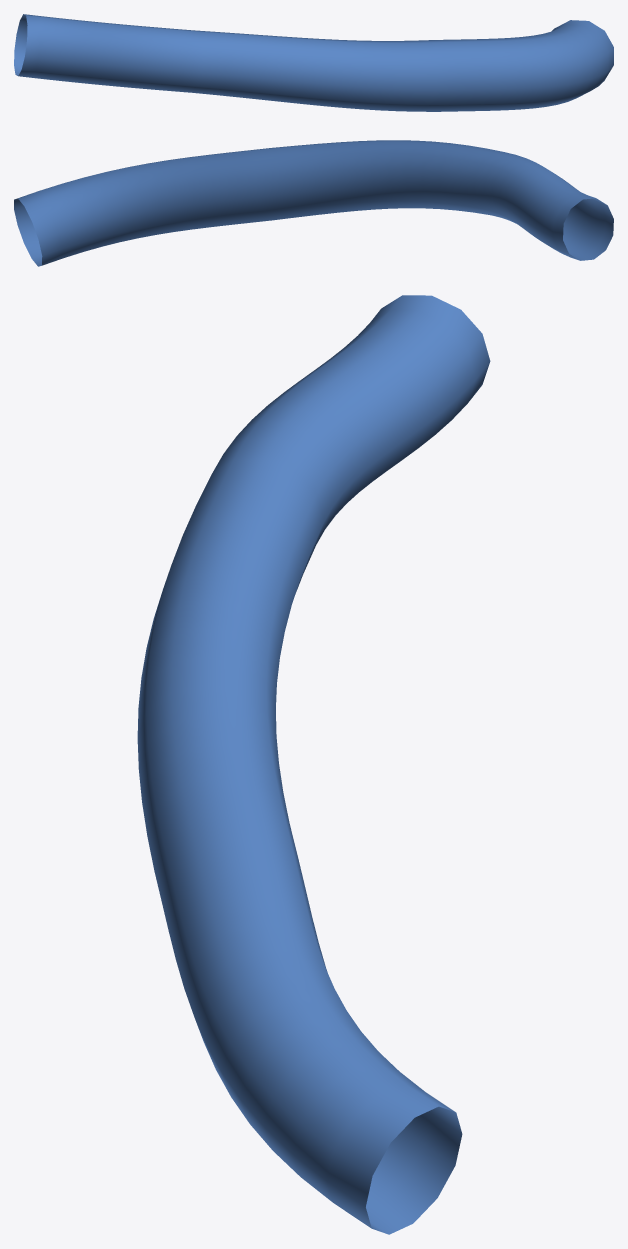
3 renders of one model, top to bottom at view 1: azimuth 30°, elevation 25°; view 2: azimuth 150°, elevation 25°; view 3: azimuth 270°, elevation 25°, orthographic. The views are drawn at different scales.
Visible parts, largest first — view 1: 右锁骨下静脉; view 2: 右锁骨下静脉; view 3: 右锁骨下静脉.
Boxes of the visible parts, x1=… form: 右锁骨下静脉: x1=14, y1=14, x2=613, y2=111; 右锁骨下静脉: x1=14, y1=140, x2=613, y2=266; 右锁骨下静脉: x1=137, y1=295, x2=490, y2=1234.
Bounding box in the file's own units: 0.1108 × 0.036 × 0.0287.
